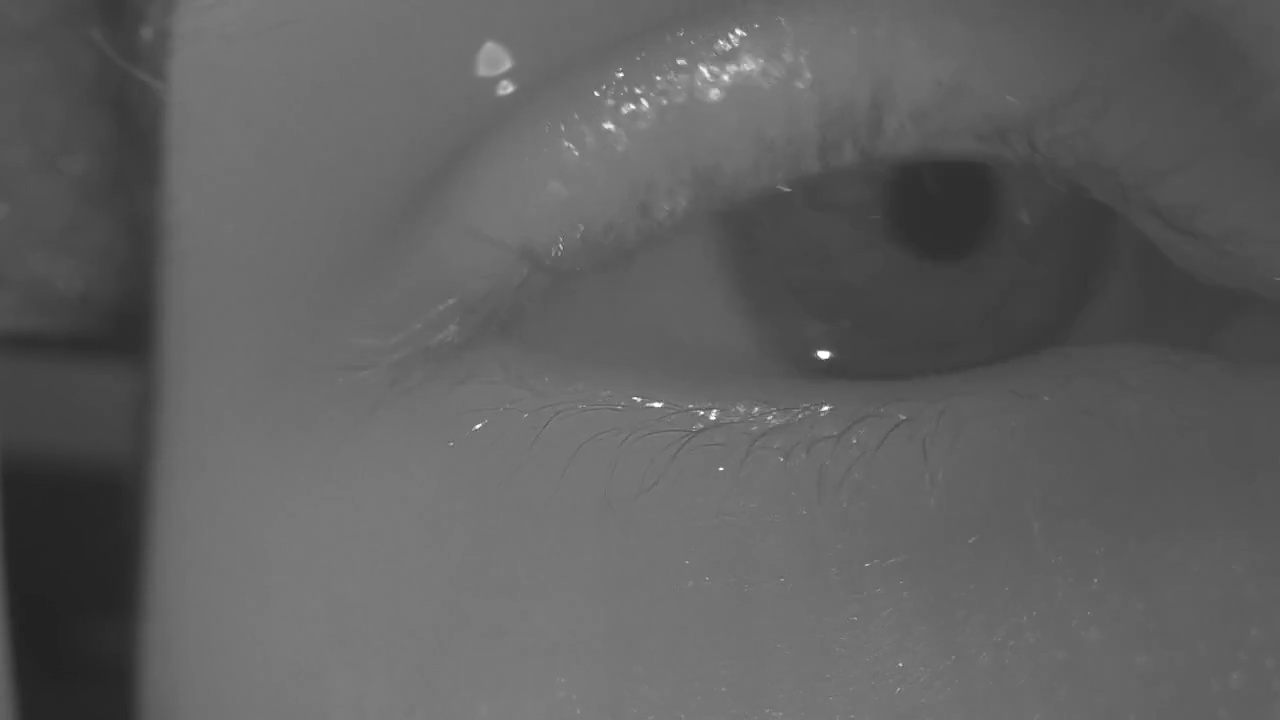pupil: (887, 158, 995, 260)
